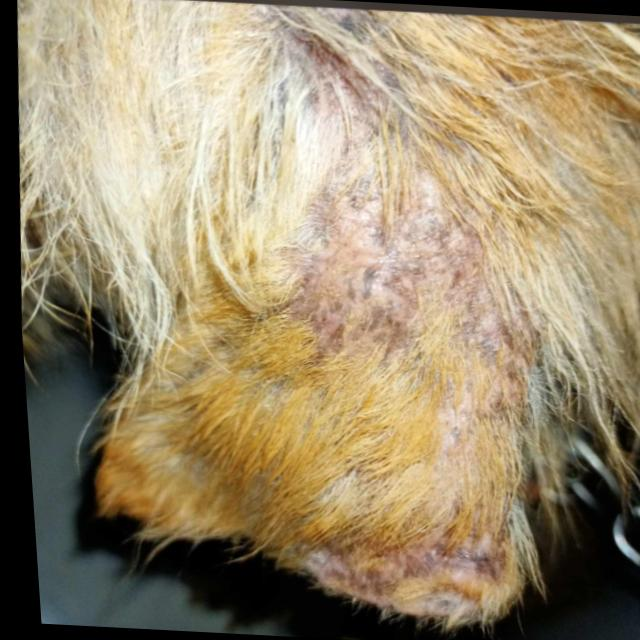demodicosis: (276, 86, 499, 373), (345, 491, 505, 614)
